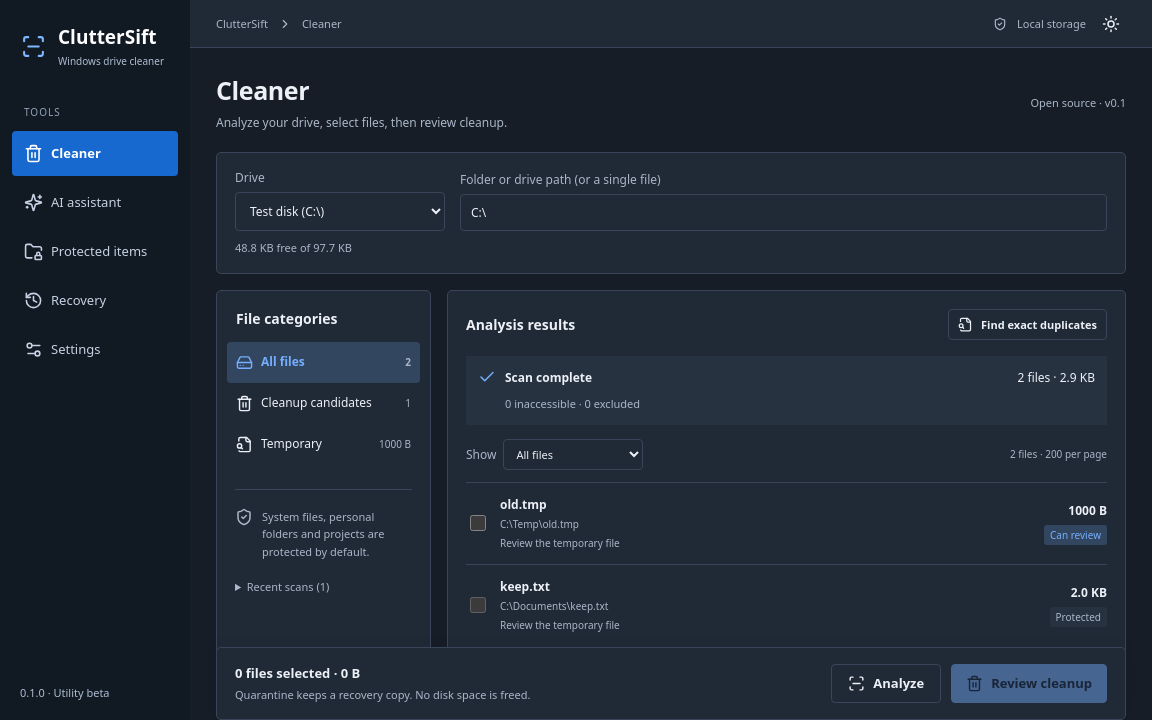
Test: review workflow › requires explicit per-item selection and previews IDs only
Click the button "Cleaner": coordinates (95, 154) top-left (12, 131), bottom-right (178, 176)
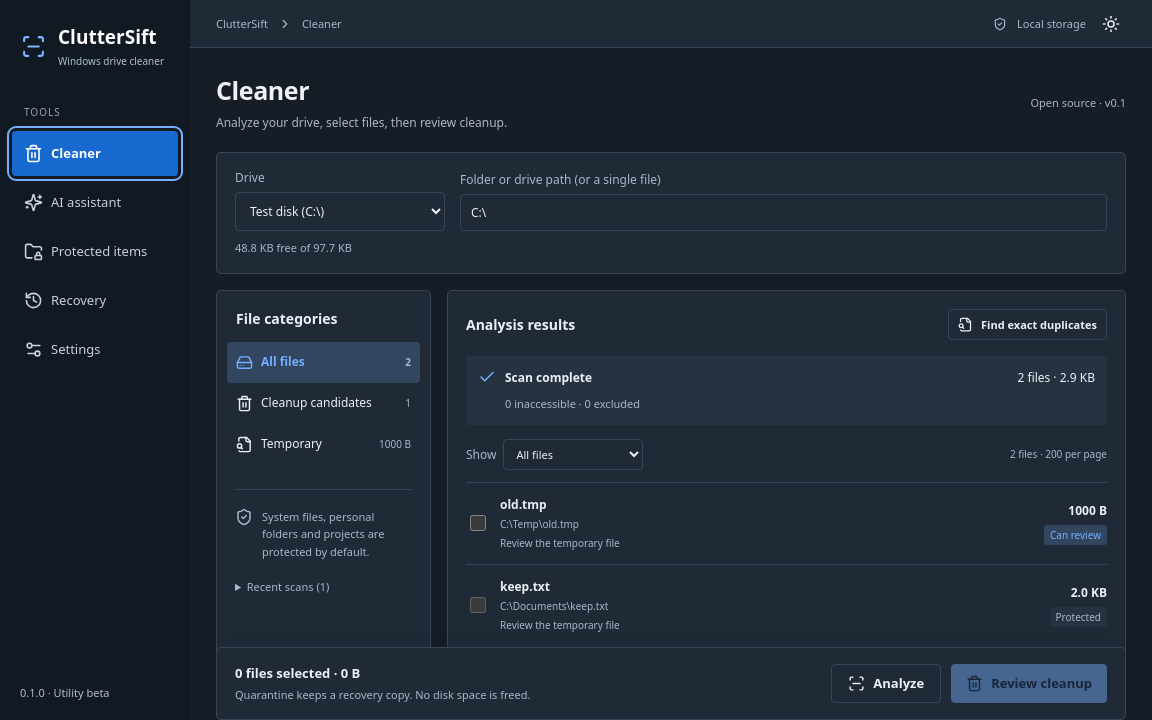
Expected: the button "Review cleanup" is disabled, top-left (951, 664), bottom-right (1107, 702)
Click the checkbox named "Select C:\\Temp\\old.tmp": coordinates (478, 523) top-left (470, 515), bottom-right (486, 531)
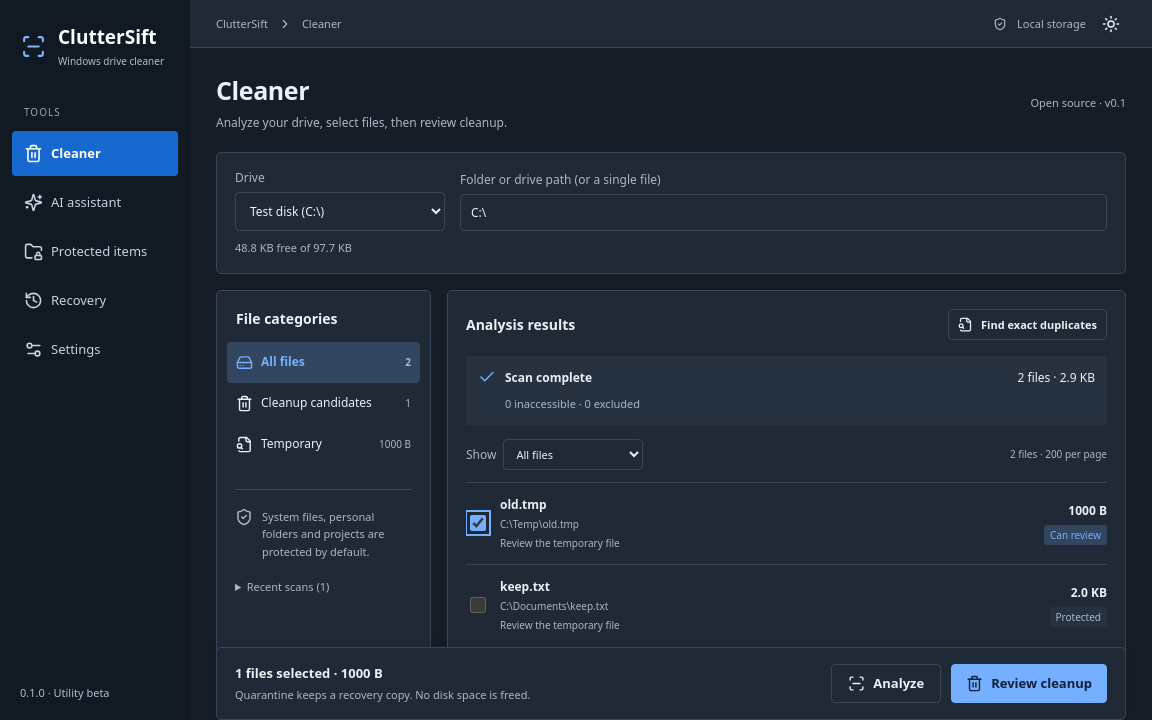
Click the button "Review cleanup": coordinates (1029, 683) top-left (951, 664), bottom-right (1107, 702)
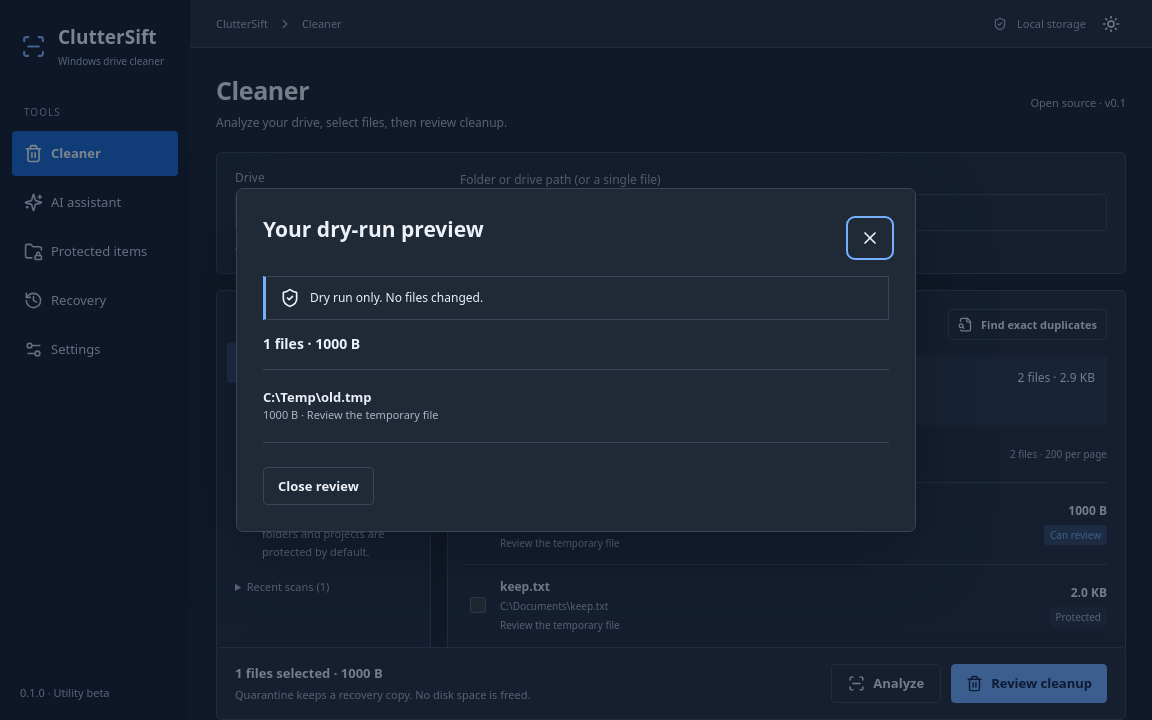
Result: the dialog "Your dry-run preview" is shown at top-left (236, 188), bottom-right (916, 532)
Result: the text "Dry run only. No files changed." is shown at top-left (310, 289), bottom-right (483, 306)
